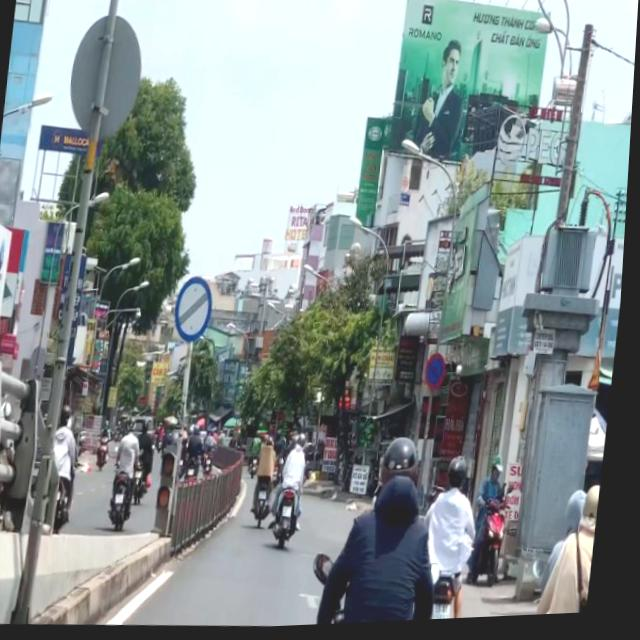Cam do xe: (428, 356, 452, 396)
